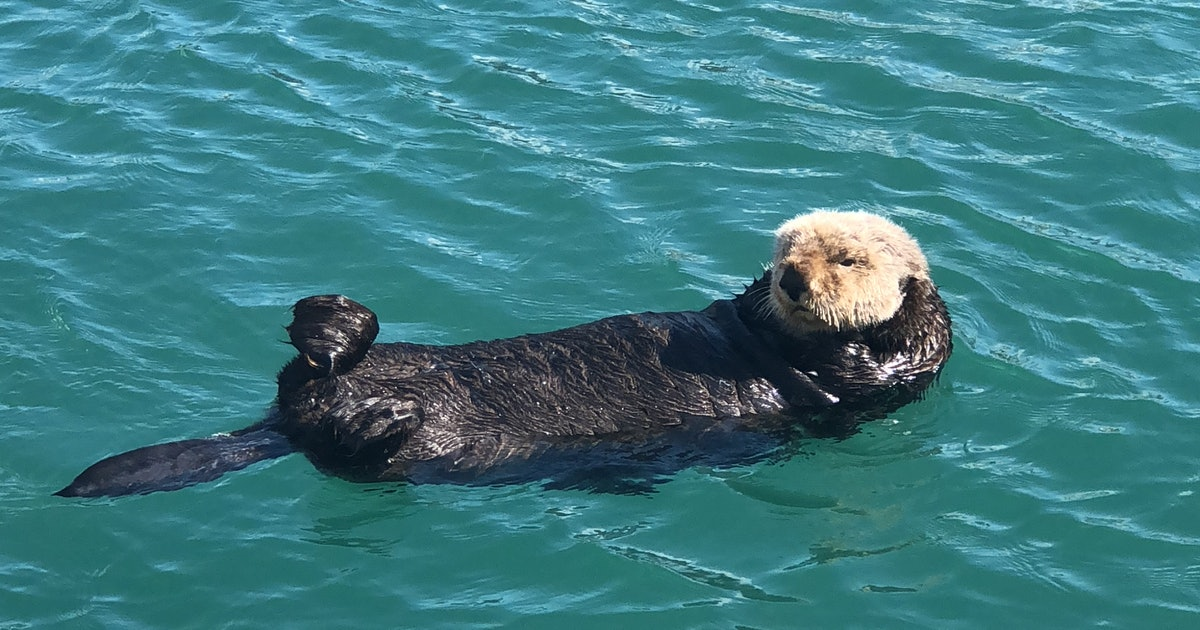otter: (77, 104, 1095, 525)
